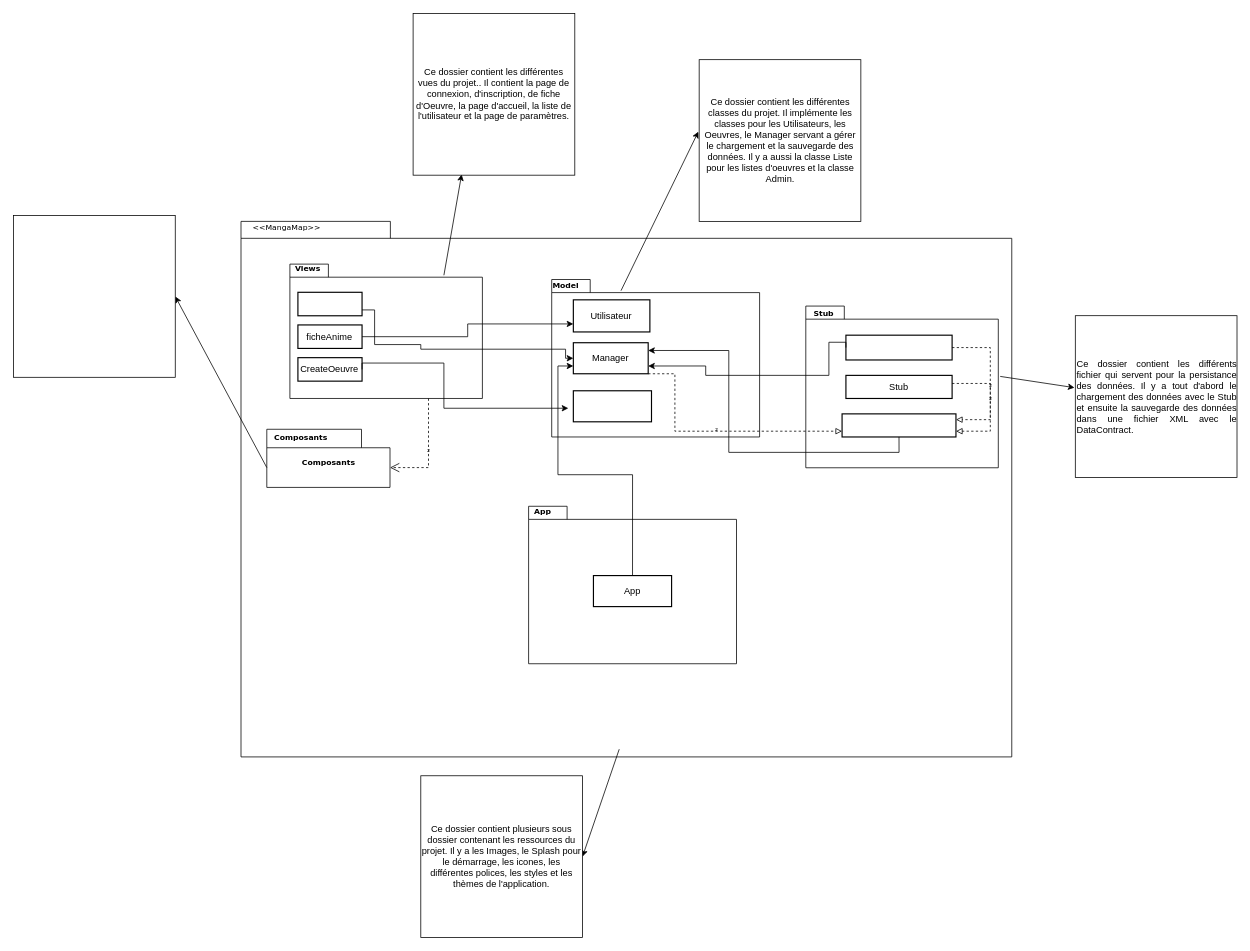
Image size: 1250x951. Some labels were removed from this diagram. Each missing label, with the centre of its shape:
"Ce sous dossier contient les UserControl pour les vues." belongs at pixel 94 296.
"DataContract" belongs at pixel 898 347.
"IPersistanceManager" belongs at pixel 898 425.
"loginPage" belongs at pixel 329 303.
"Oeuvre" belongs at pixel 612 406.
